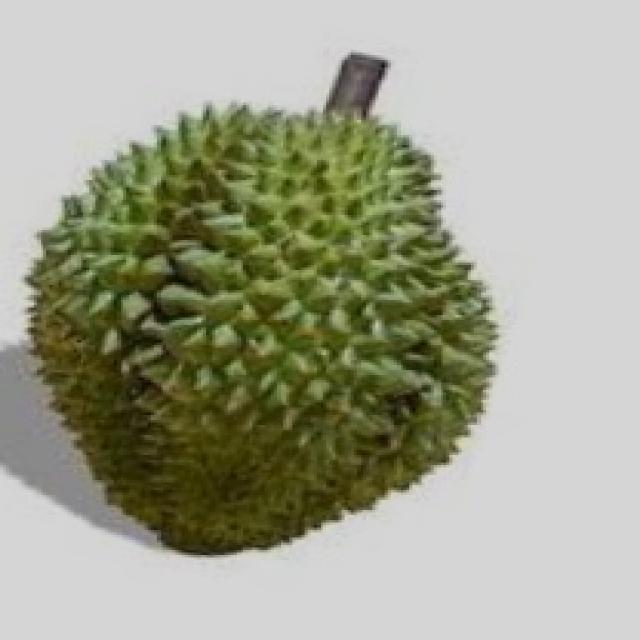fruit: (0, 242, 388, 592)
